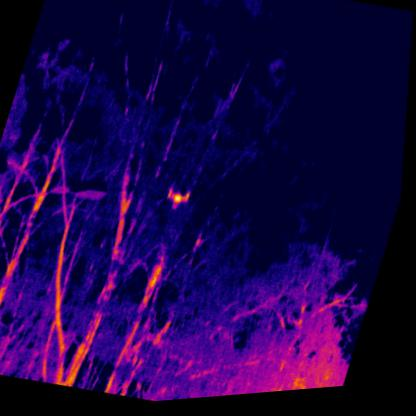drone: (167, 188, 193, 214)
